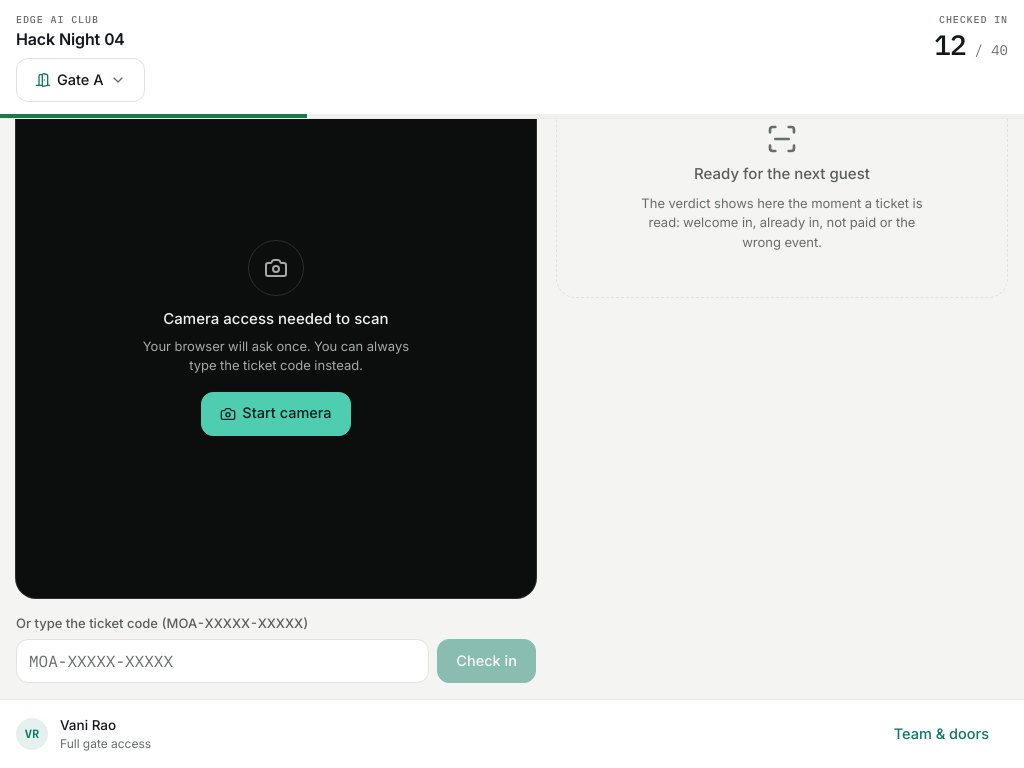
Test: the gate console › reads a refusal from an API without the hint as a code it does not know, with no by-hand offer
(page scrolled)
Step 1. Type "nope" into the field labelled "Or type the ticket code (MOA-XXXXX-XXXXX)" → (223, 661), box [16, 639, 429, 683]
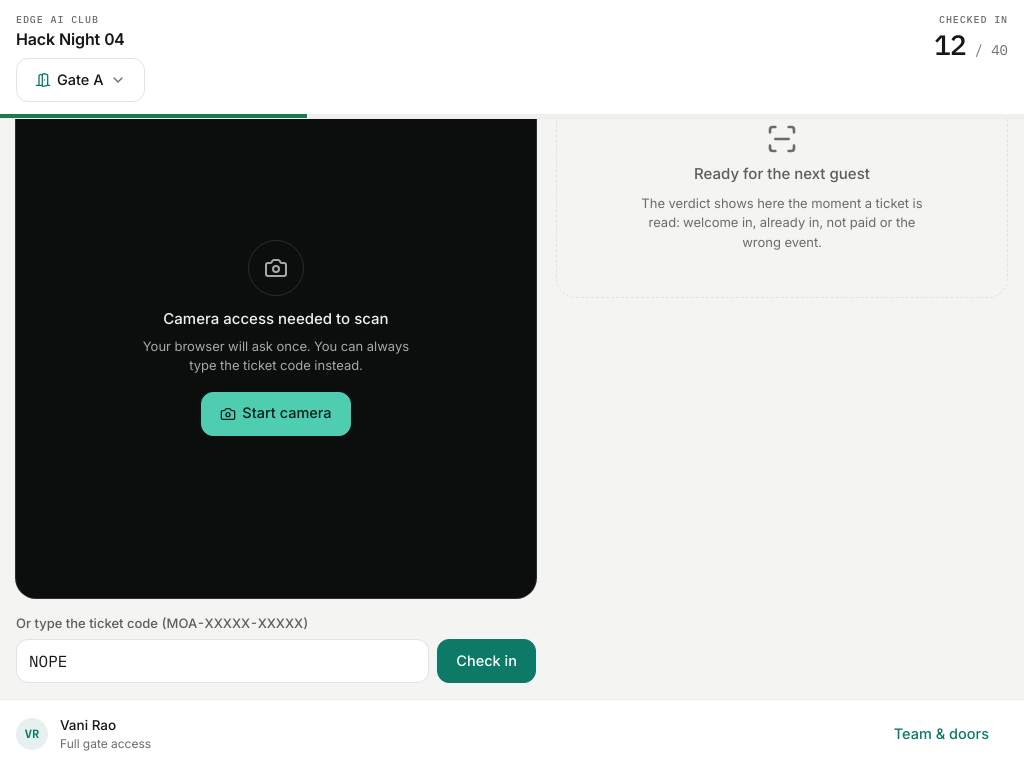
Step 2. Click the button "Check in" → (487, 661), box [437, 639, 536, 683]
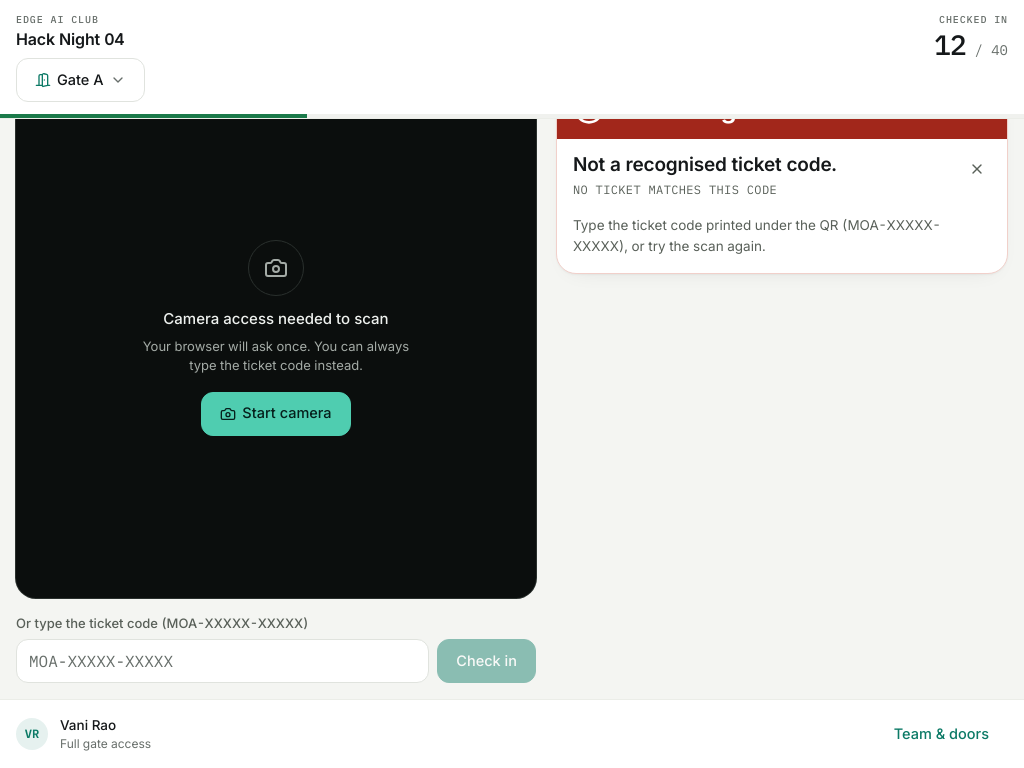
Expected: the text "Not recognised" is shown, [617, 92, 802, 124]
Expected: the text "ticket code printed under the QR" is shown, [573, 218, 941, 254]
